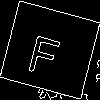F: (25, 25, 65, 78)
